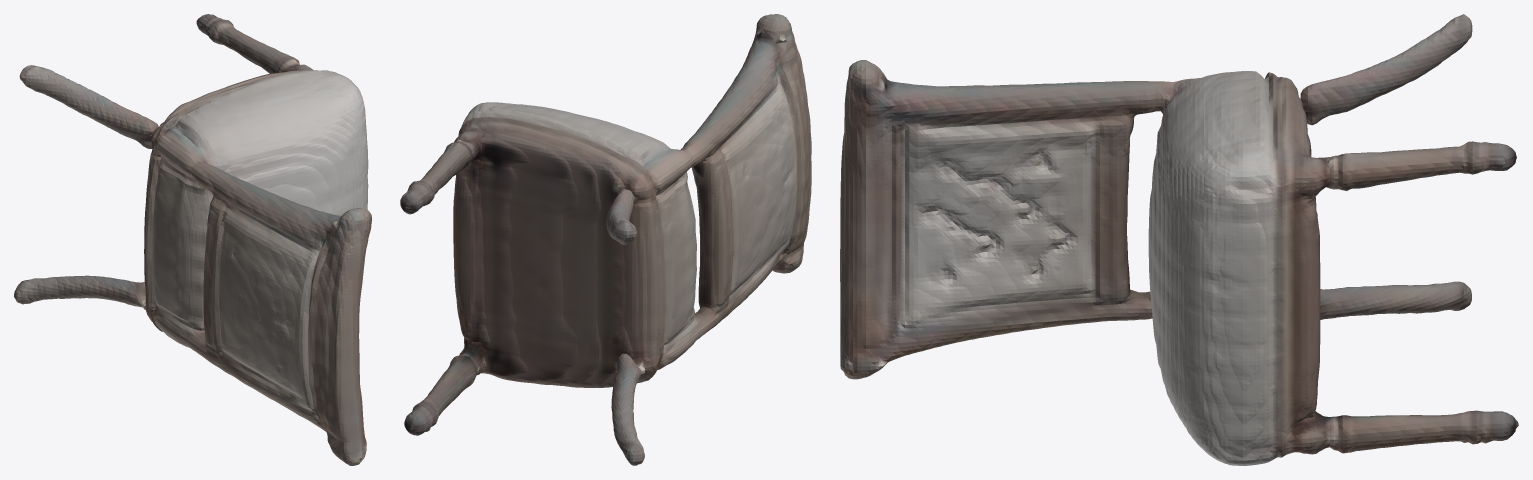
3 renders of one model, left to right at view 1: azimuth 30°, elevation 25°; view 2: azimuth 150°, elevation 25°; view 3: azimuth 270°, elevation 25°, orthographic. The views are drawn at different scales.
Visible parts, largest first — view 1: world; view 2: world; view 3: world.
Boxes of the visible parts, box(x1,y1,x2,y2) form: world: box(14, 14, 371, 465); world: box(400, 14, 811, 465); world: box(840, 14, 1518, 465).
Bounding box in the file's own units: 0.5991 × 0.5687 × 1.07.
